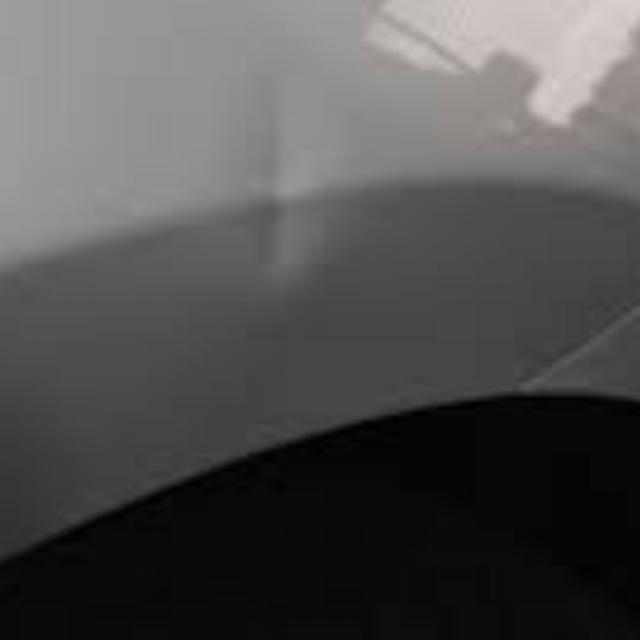dents: (219, 79, 350, 295)
